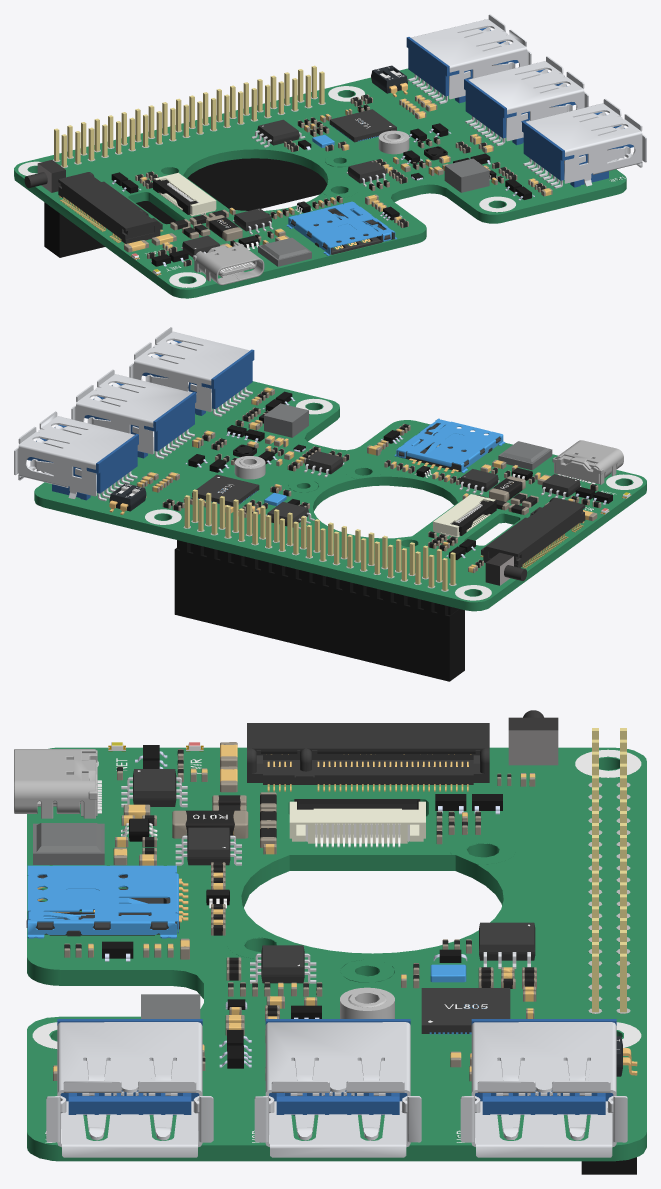
The model's file is raspberry_pi_clean.glb.
The picture shows the model from 3 angles, top to bottom: view 1: azimuth 30°, elevation 25°; view 2: azimuth 150°, elevation 25°; view 3: azimuth 270°, elevation 25°; orthographic projection. The views are drawn at different scales.
Parts seen in each view (by area): view 1: SOLID, pin1 (2), 40 pin header, Housing (2), SIM8083, Blacks (75), Blacks (75)002, 2199119-139, SIM8066, SMD inductor 4R7, COMPOUND, USB C002 (+5 smaller); view 2: SOLID, 40 pin header, pin1 (2), Housing (2), SIM8083, Blacks (75), Blacks (75)002, SIM8066, 2199119-139, COMPOUND, SMD inductor 4R7, USB C002 (+5 smaller); view 3: SOLID, pin1 (2), 2199119-139, SIM8083, SIM8066, Housing (2), Blacks (75), Blacks (75)002, USB C002, 40 pin header, SMD inductor 4R7, FPC-16 (+6 smaller).
Part boxes in pixels (x1,y1,x2,y2): SOLID: (14, 68, 626, 298); pin1 (2): (408, 14, 646, 188); 40 pin header: (44, 65, 327, 257); Housing (2): (406, 27, 633, 187); SIM8083: (182, 109, 396, 257); Blacks (75): (123, 94, 552, 266); Blacks (75)002: (128, 94, 551, 266); 2199119-139: (58, 172, 162, 243); SIM8066: (286, 120, 397, 255); SMD inductor 4R7: (258, 158, 489, 266); COMPOUND: (111, 123, 534, 266); USB C002: (193, 242, 264, 285); SOLID: (34, 381, 646, 611); 40 pin header: (174, 489, 464, 681); pin1 (2): (14, 327, 252, 501); Housing (2): (27, 340, 254, 500); SIM8083: (192, 423, 580, 527); Blacks (75): (136, 387, 601, 572); Blacks (75)002: (137, 387, 599, 572); SIM8066: (198, 418, 505, 506); 2199119-139: (481, 497, 585, 567); COMPOUND: (185, 391, 612, 559); SMD inductor 4R7: (264, 403, 552, 470); USB C002: (552, 440, 623, 484); SOLID: (27, 747, 646, 1161); pin1 (2): (46, 1022, 627, 1157); 2199119-139: (247, 723, 489, 784); SIM8083: (26, 769, 535, 1033); SIM8066: (27, 865, 486, 1034); Housing (2): (57, 1019, 616, 1115); Blacks (75): (53, 742, 536, 1081); Blacks (75)002: (53, 744, 535, 1071); USB C002: (14, 749, 97, 818); 40 pin header: (581, 728, 636, 1174); SMD inductor 4R7: (33, 823, 200, 1018); FPC-16: (289, 801, 425, 843).
Bounding box in the file's own units: 0.0906 × 0.0235 × 0.0572.
